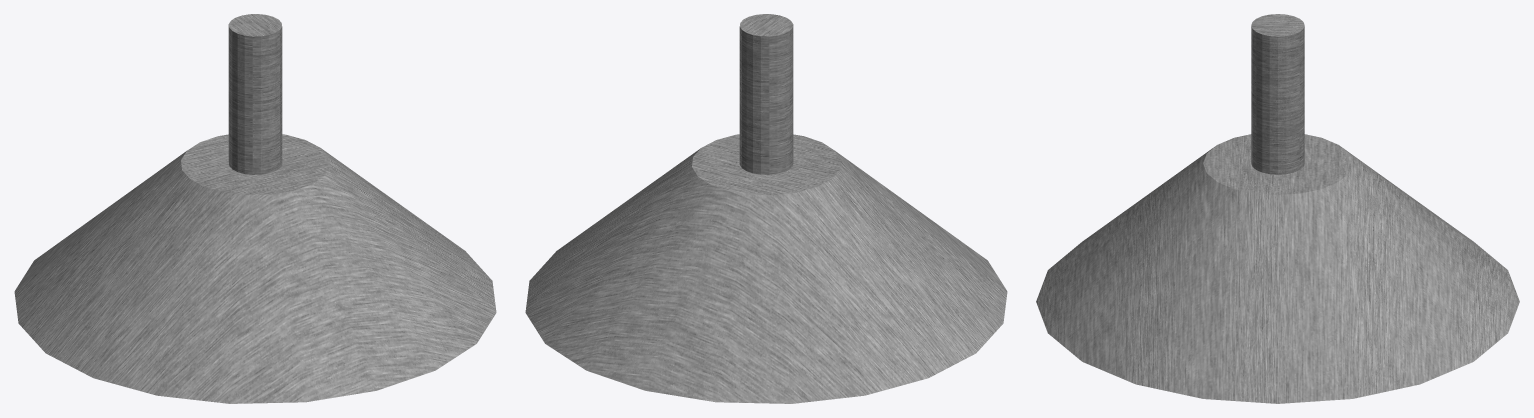
The model's file is LighBathroom.fbx.
3 views of the same model, side by side, from view 1: azimuth 30°, elevation 25°; view 2: azimuth 150°, elevation 25°; view 3: azimuth 270°, elevation 25° (orthographic).
Parts seen in each view (by area): view 1: LighBathroom; view 2: LighBathroom; view 3: LighBathroom.
Part boxes in pixels (<box>): LighBathroom: <box>14,14,496,403</box>; LighBathroom: <box>525,14,1007,403</box>; LighBathroom: <box>1036,14,1519,403</box>.
Size of the model in its own units: 33.84 by 23.7 by 33.84.
1 material, 1 textured.
